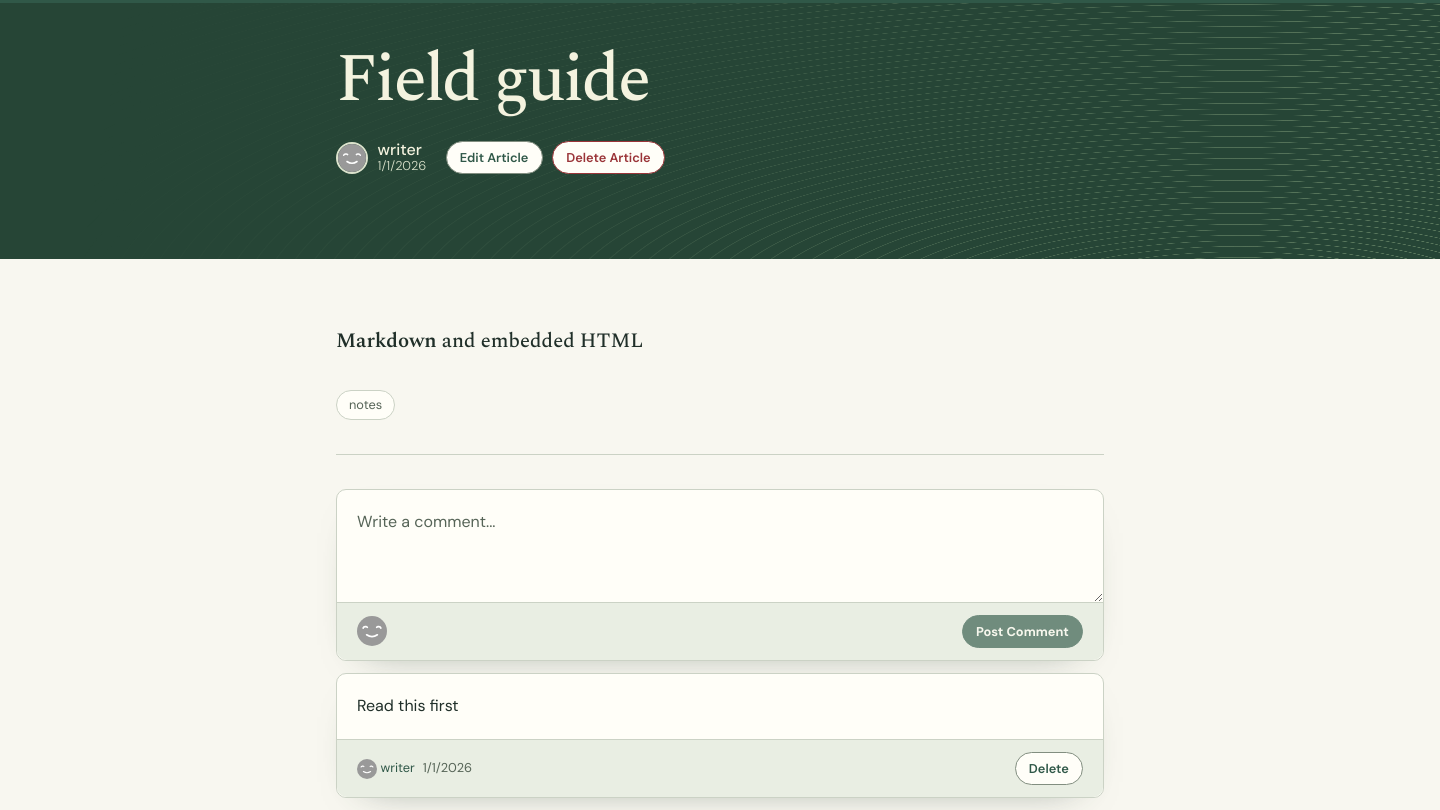
article details and comments › keeps an owned comment on a forbidden delete and accepts an HTTP 200 retry
(page scrolled)
Step 1. Click the button with aria-label "delete comment" → (1049, 768), box [1015, 752, 1083, 785]
(page scrolled)
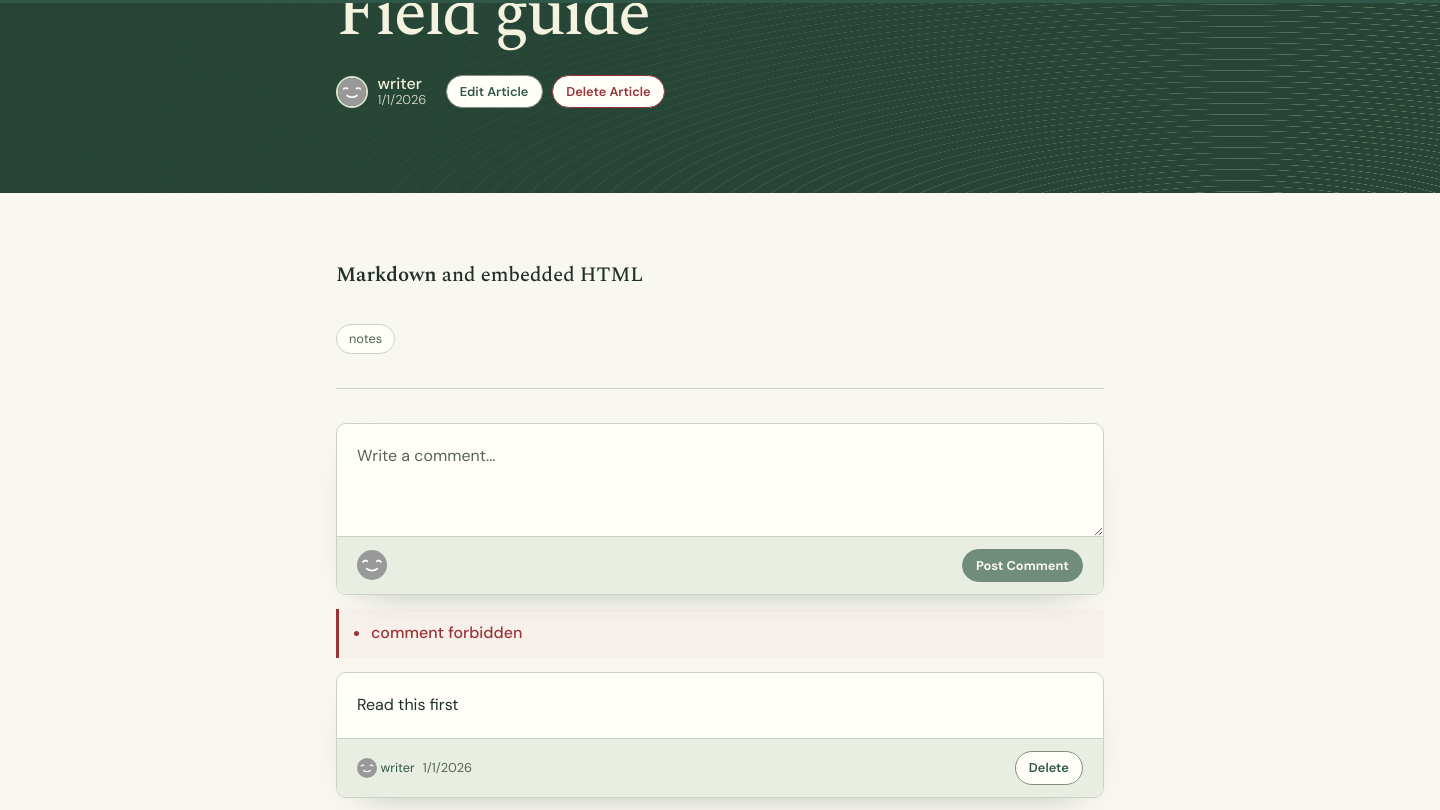
Expected: the text "Read this first" is shown, [357, 694, 459, 715]
Now the message shows "forbidden", box [371, 622, 522, 643]
Step 2. Click the button with aria-label "delete comment" → (1049, 768), box [1015, 751, 1083, 784]
(page scrolled)
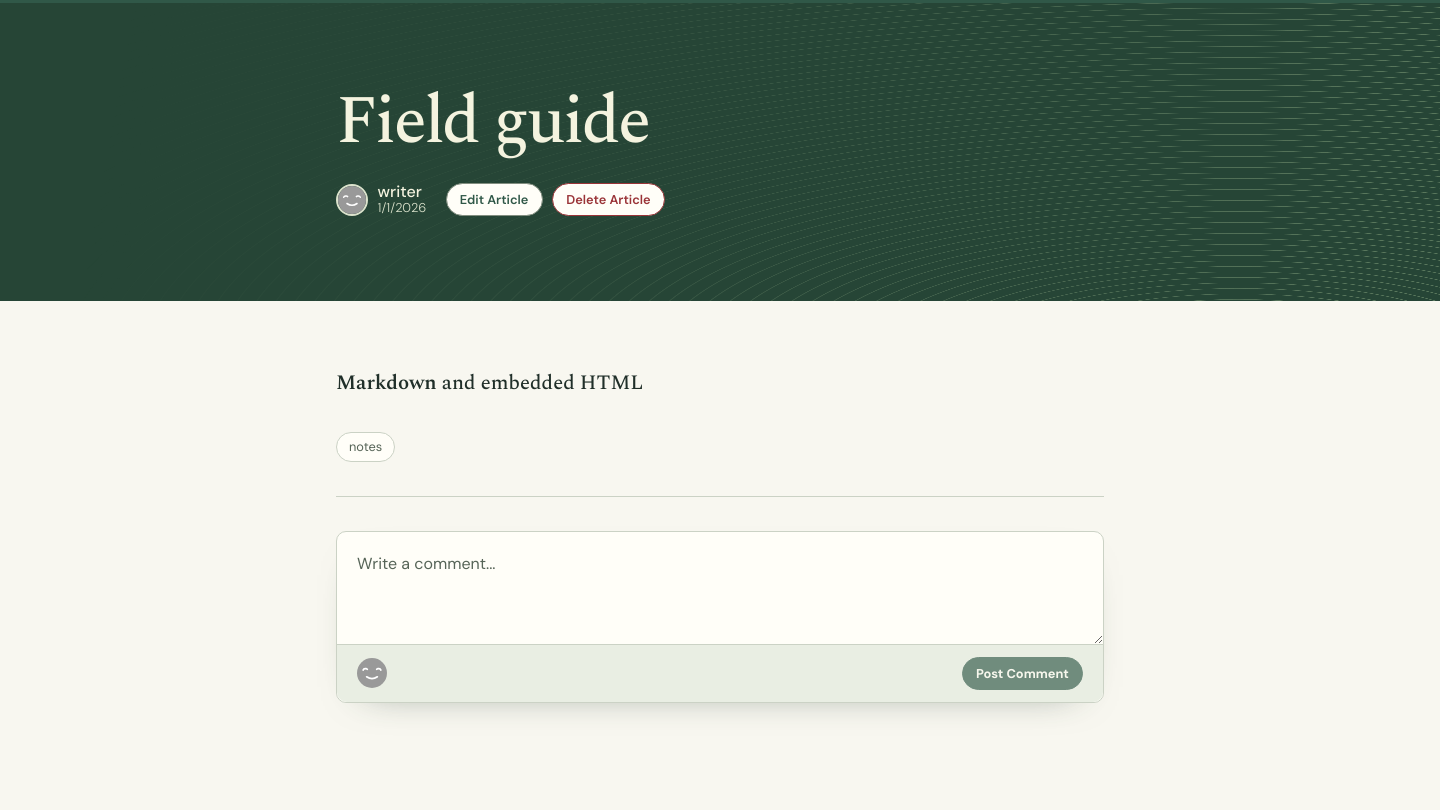
Expected: the heading "Field guide" is shown, [336, 70, 648, 173]
Now the text "Read this first" is gone
